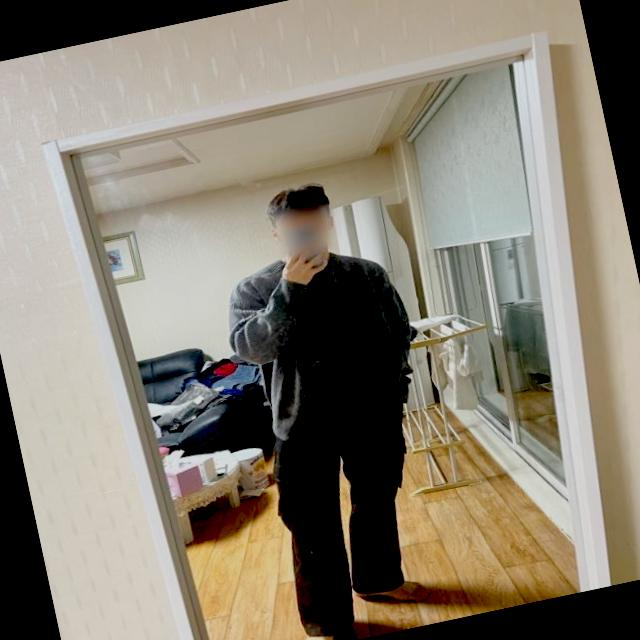cardigan: (212, 230, 433, 449)
denimpants: (253, 370, 442, 640)
